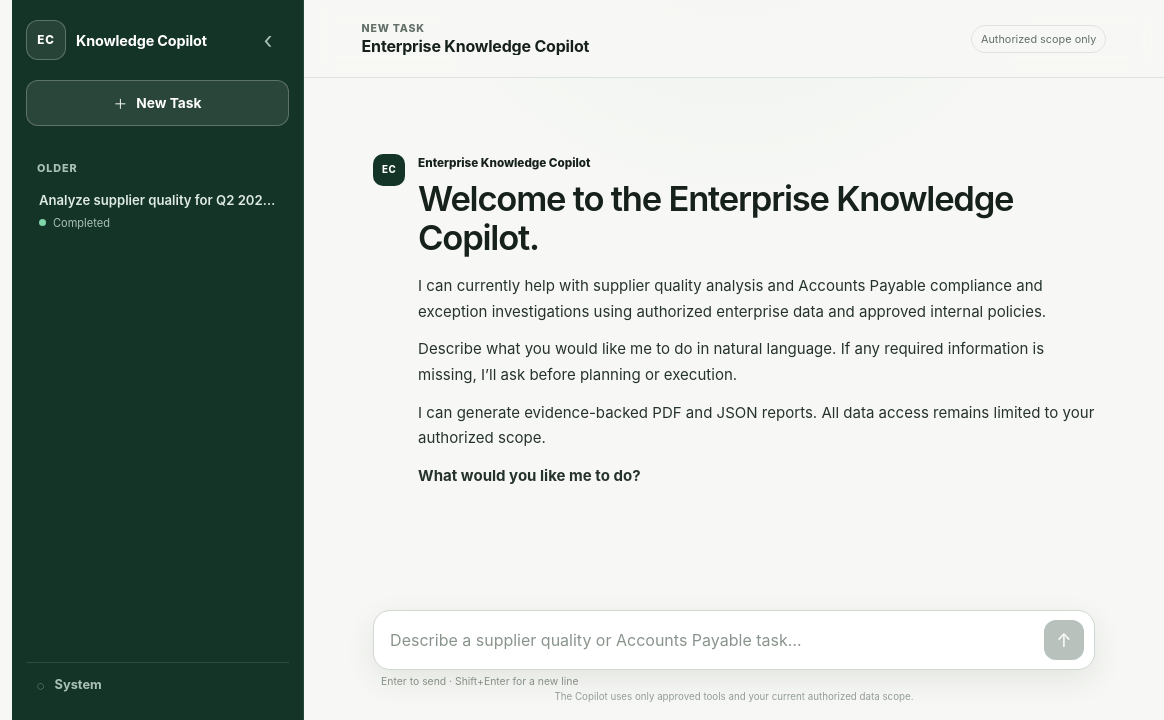
Chat-first Task Workspace › keeps collapsed sidebar actions accessible
Expected: the text "Analyze supplier quality for Q2 2026 and generate a PDF report." is shown, [39,192,276,209]
Click the button named "Collapse task history".
click(268, 40)  # box [247,19,289,61]
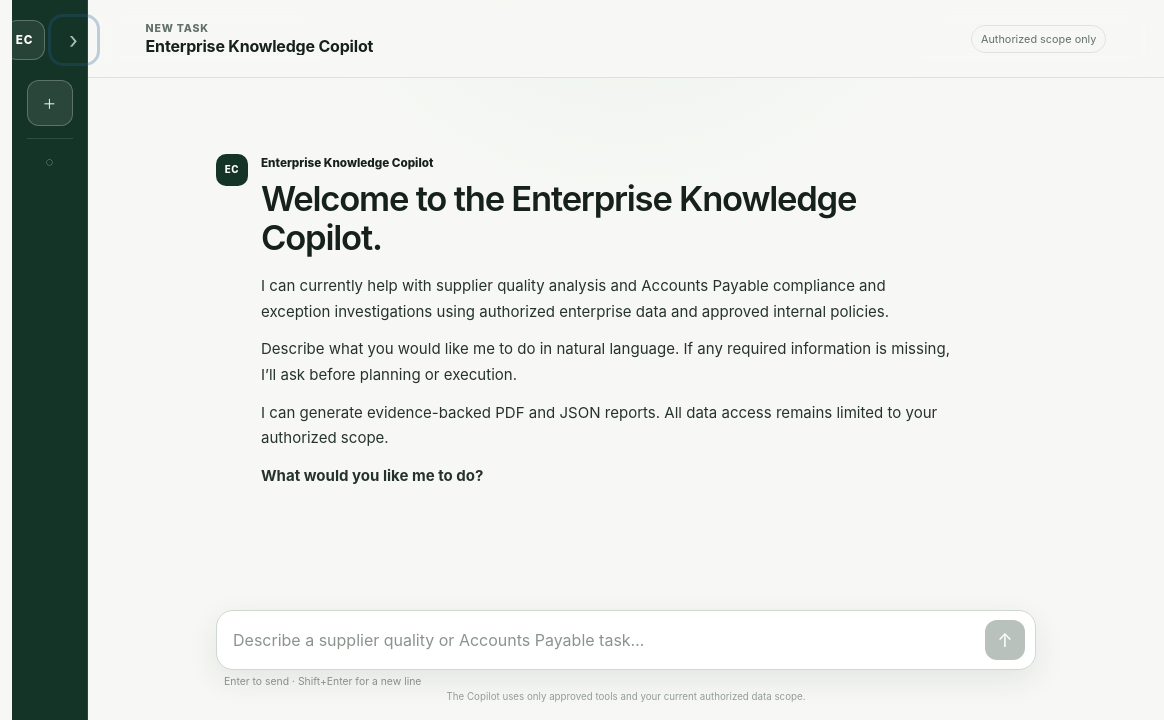
Expected: the link named "New task" is shown, [26,80,72,126]
Result: the link "Analyze supplier quality for Q2 2026 and generate a PDF report." is gone
Click the button named "Expand task history".
click(74, 40)  # box [52,19,94,61]
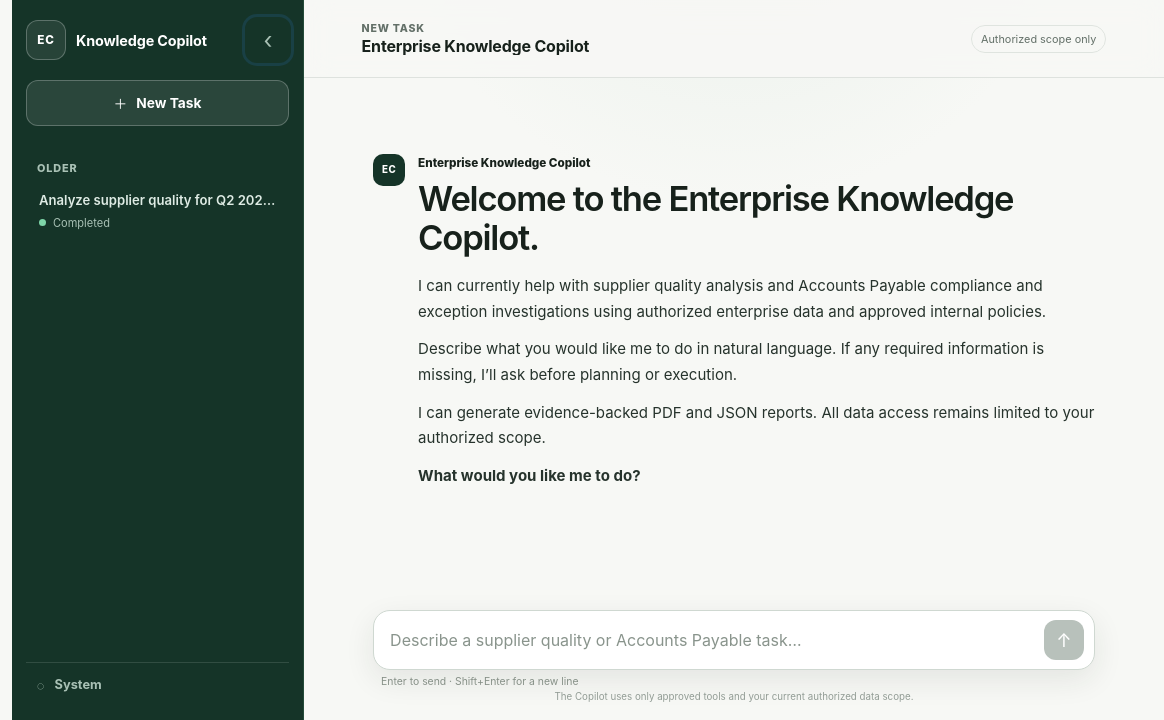
Result: the text "Analyze supplier quality for Q2 2026 and generate a PDF report." is shown at [39,192,276,209]
